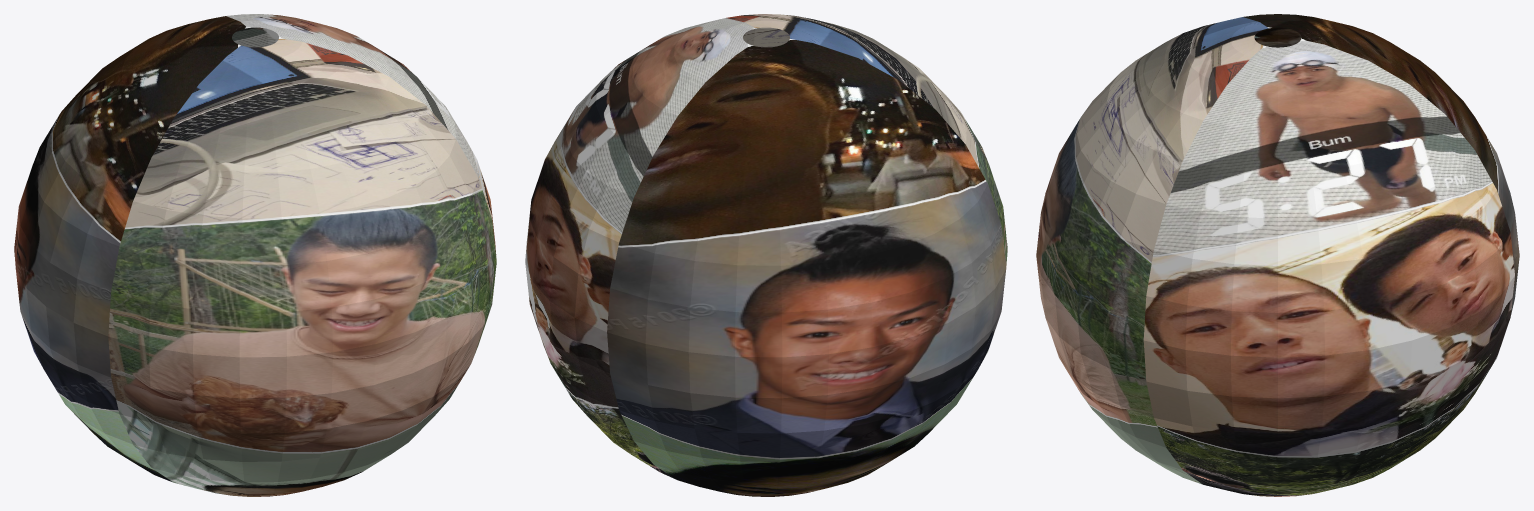
File: betterCollage.dae
3 renders of one model, left to right at view 1: azimuth 30°, elevation 25°; view 2: azimuth 150°, elevation 25°; view 3: azimuth 270°, elevation 25°, orthographic.
Parts seen in each view (by area): view 1: Sphere; view 2: Sphere; view 3: Sphere.
Part boxes in pixels (box(x1,y1,x2,y2)): Sphere: box(14, 14, 496, 496); Sphere: box(525, 14, 1007, 496); Sphere: box(1036, 14, 1519, 496).
Bounding box in the file's own units: 2 × 2 × 1.99.
Materials: 1 (1 with a texture image).
